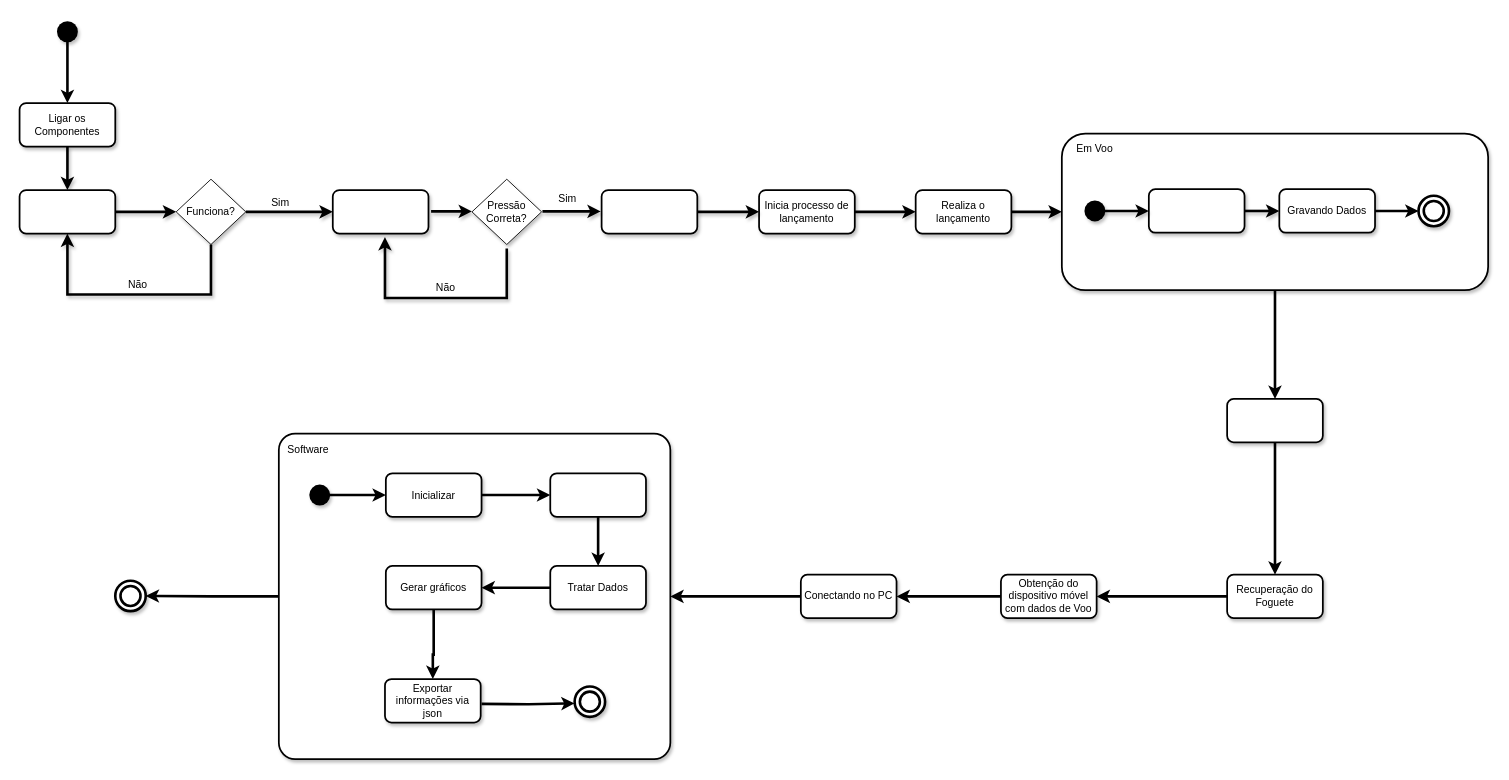
Some shapes in this 1509 by 780 pixel diagram are drawn without their labels. Here are the shapes that lost their labels. From the top down, the centre of each, then its label:
point 68,212: Testar Componentes
point 381,212: Pressurizar Foguete
point 650,212: Aguarda Lançamento
point 1197,211: Sensores Coletando Informações
point 1275,421: Queda
point 598,495: Importar dados do dispositivo mó vel
